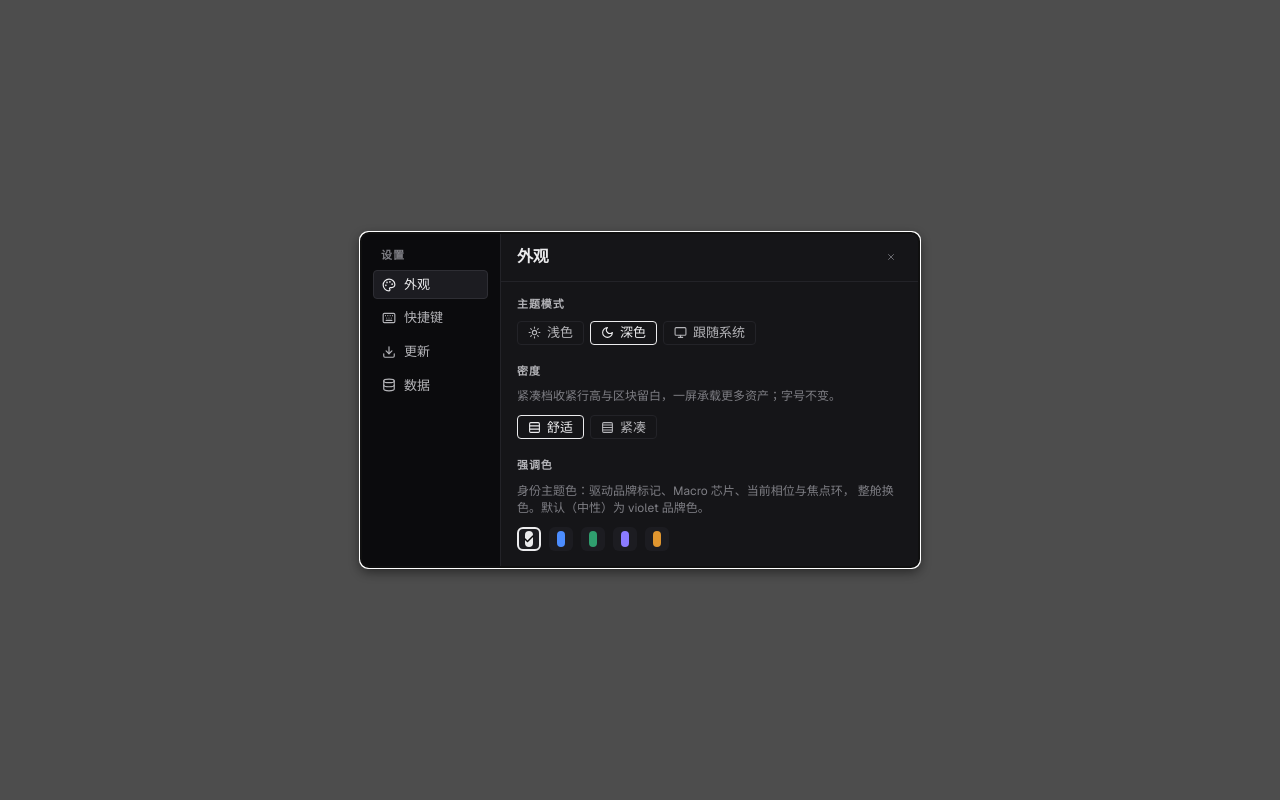
Test case: TrashSection — settings 数据 page trash view (ADR-028 P1) › 恢复 goes through the store and the row leaves the list
Click the button "数据". click: {"x": 430, "y": 385}
box: [373,371,488,400]
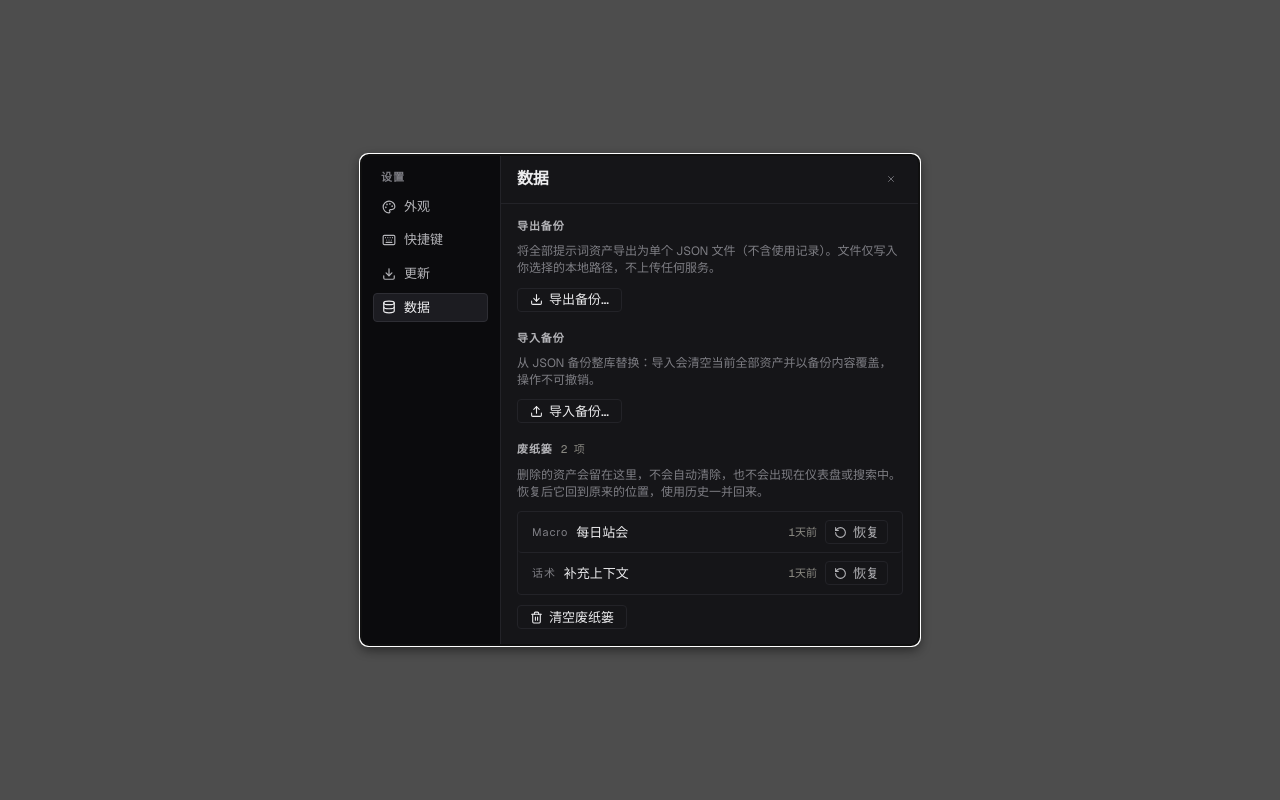
Expected: the element "废纸篓" is shown, [517,444,903,630]
Click the button with aria-label "恢复「每日站会」". click: {"x": 856, "y": 532}
box: [825,520,888,544]
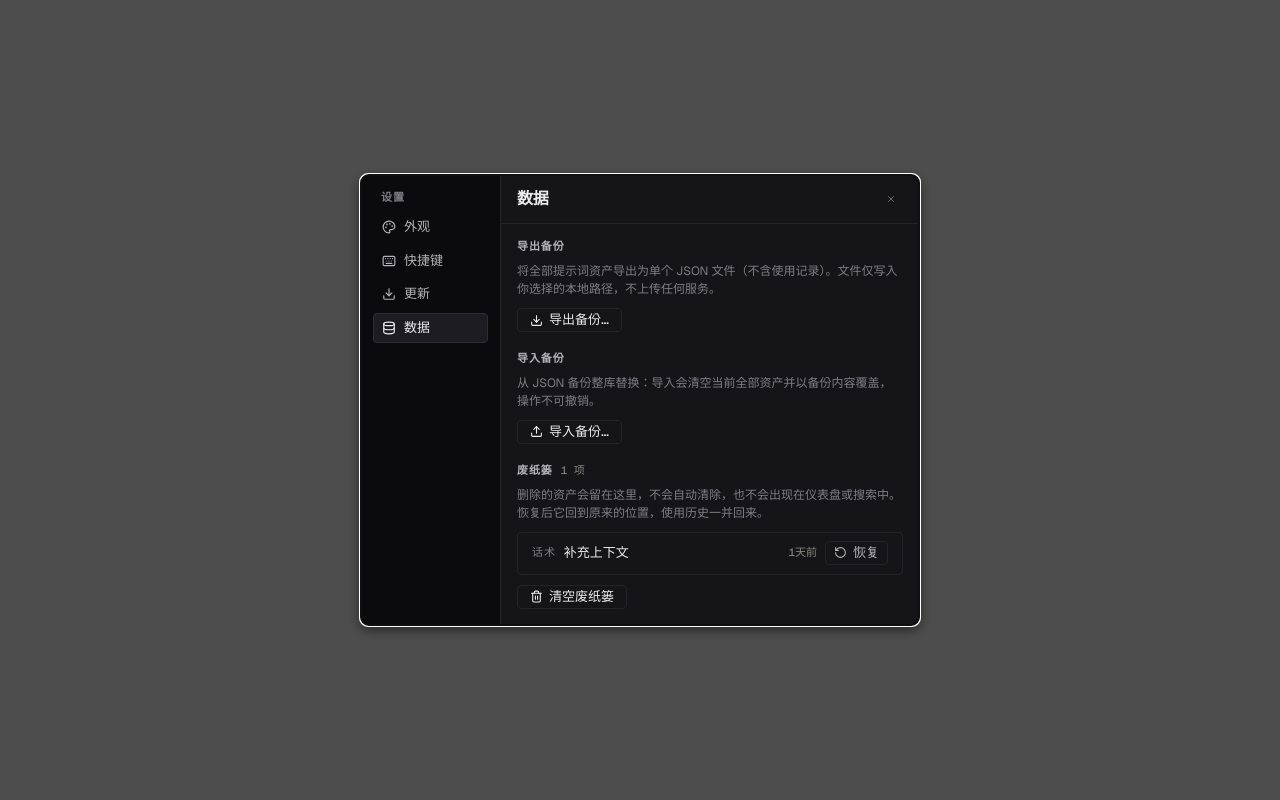
Expected: the text "补充上下文" is shown, [564,545,629,560]
Expected: the text "每日站会" is gone
Expected: the text "1 项" is shown, [561,464,585,477]
